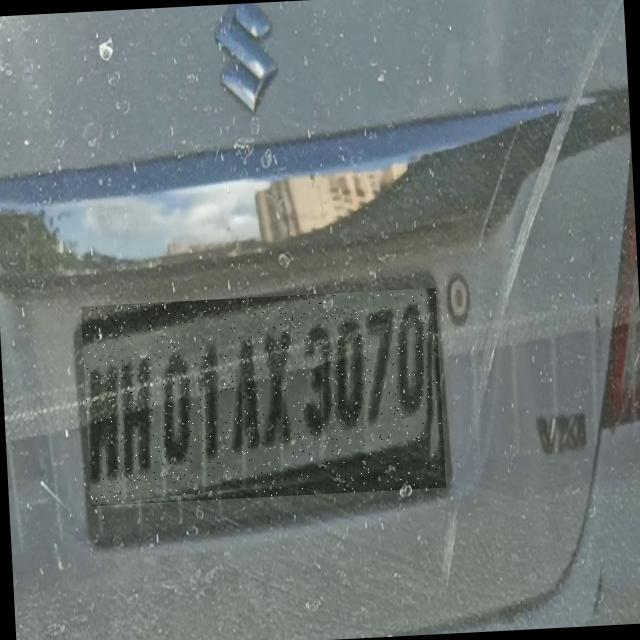Plate: (82, 289, 447, 507)
